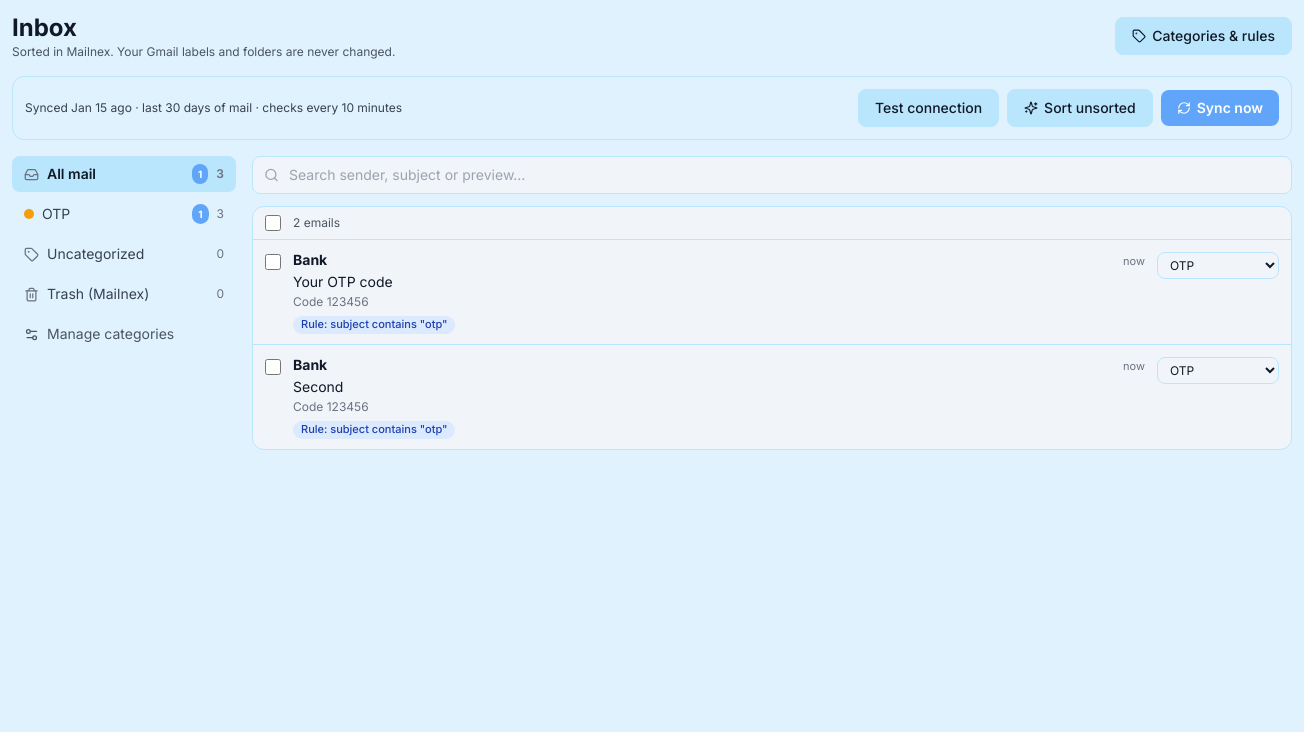
Test: Inbox page › reveals the bulk bar once rows are selected
The image size is (1304, 732).
Check: the text "Your OTP code" is shown, box [293, 272, 393, 292]
Click the 1st checkbox named "Select email from Bank". click: (273, 262)
box: [265, 254, 281, 270]
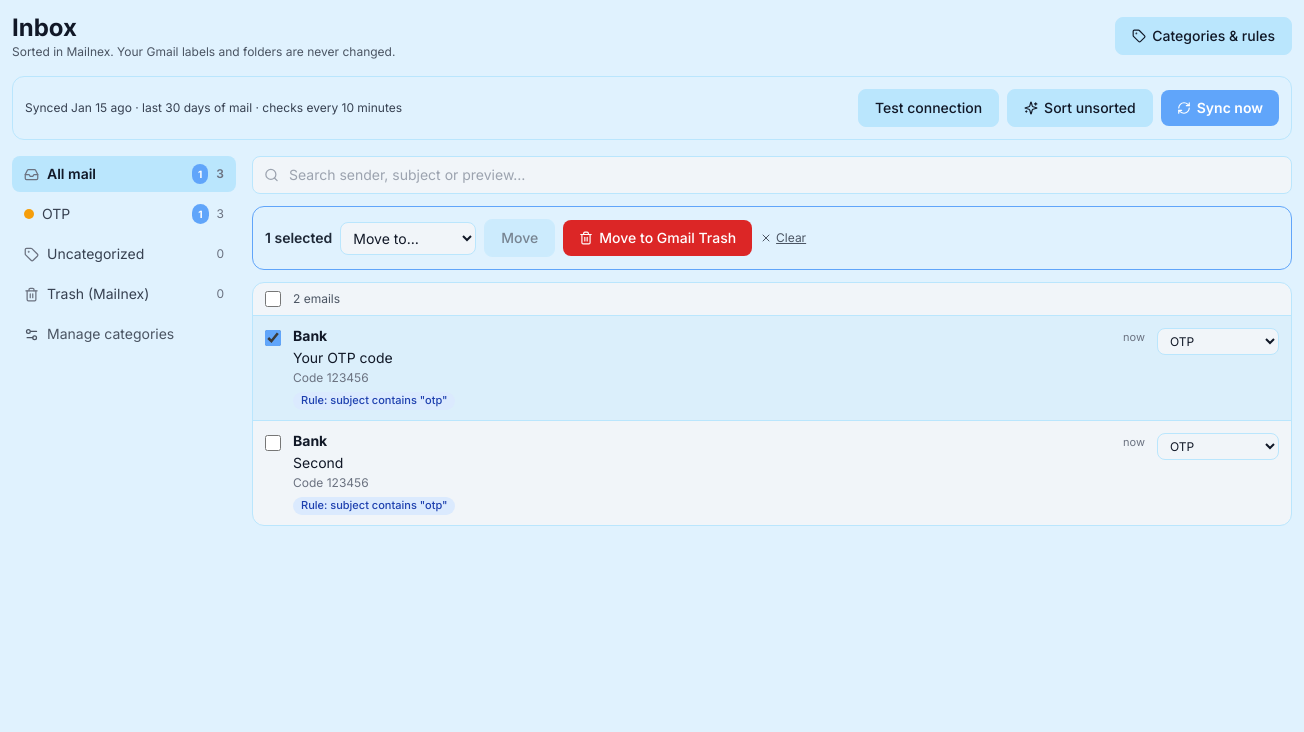
Check: the text "1 selected" is shown, box [265, 228, 332, 248]
